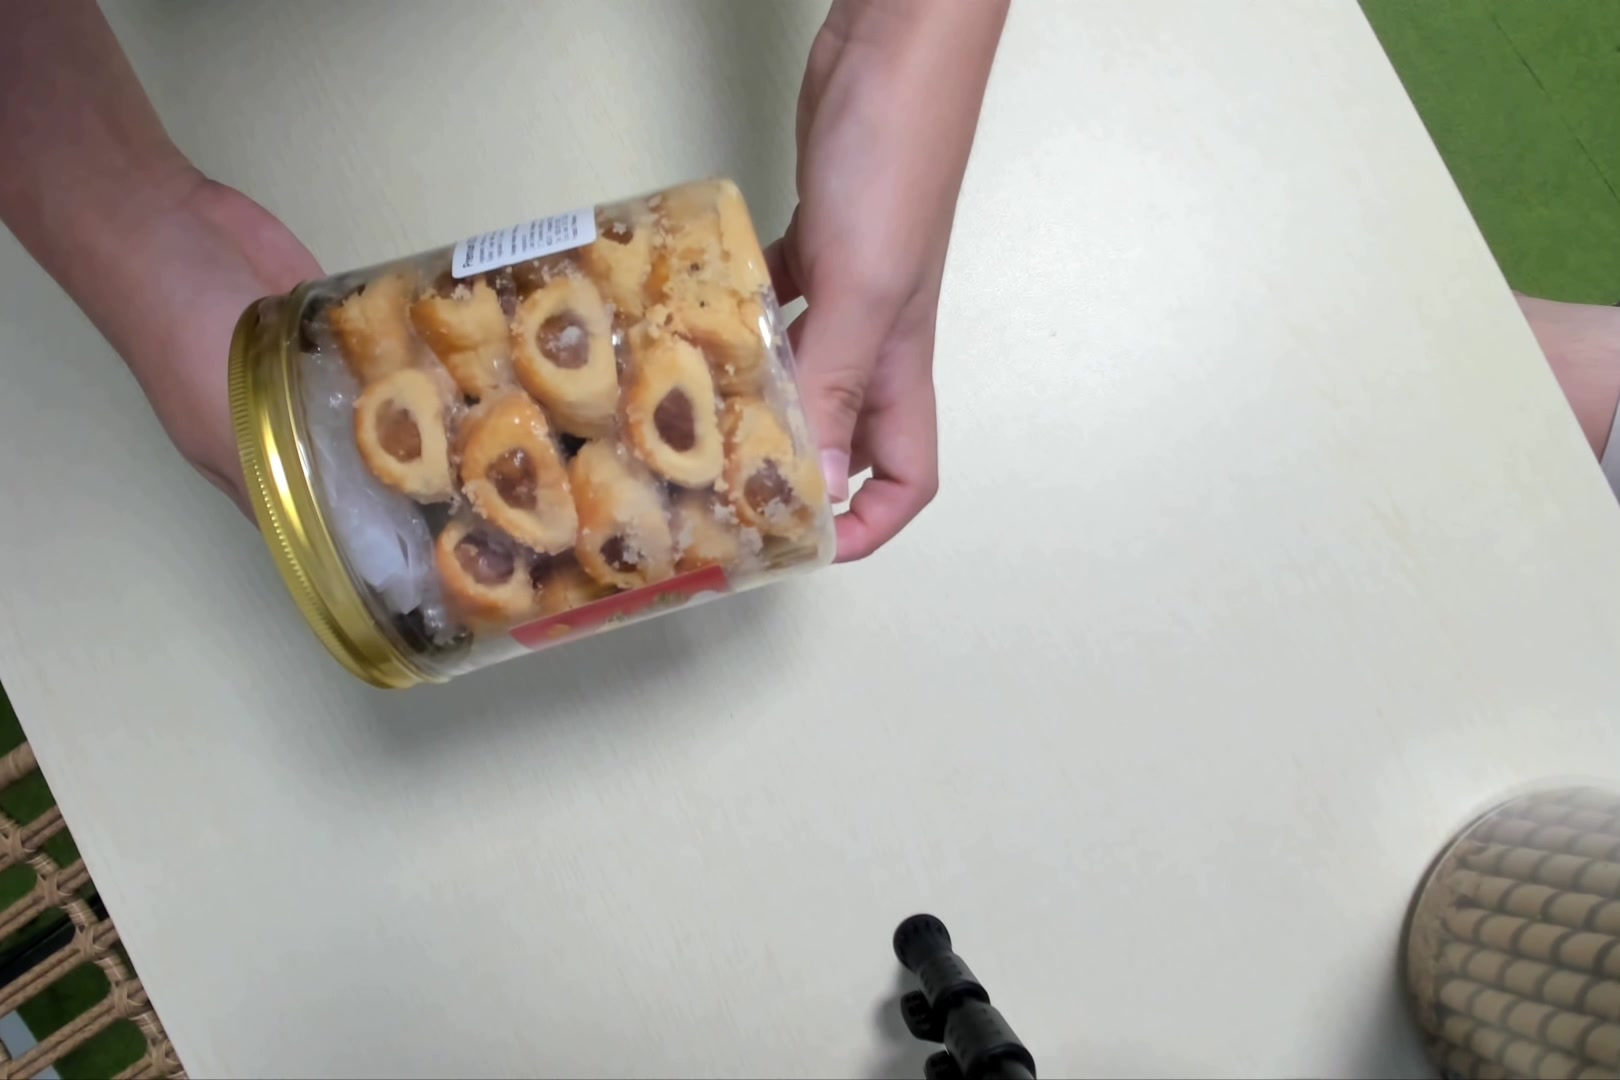BiscuitsCrackersCookies_300-399g_NonHalal_NonHealthy: (224, 177, 846, 702)
